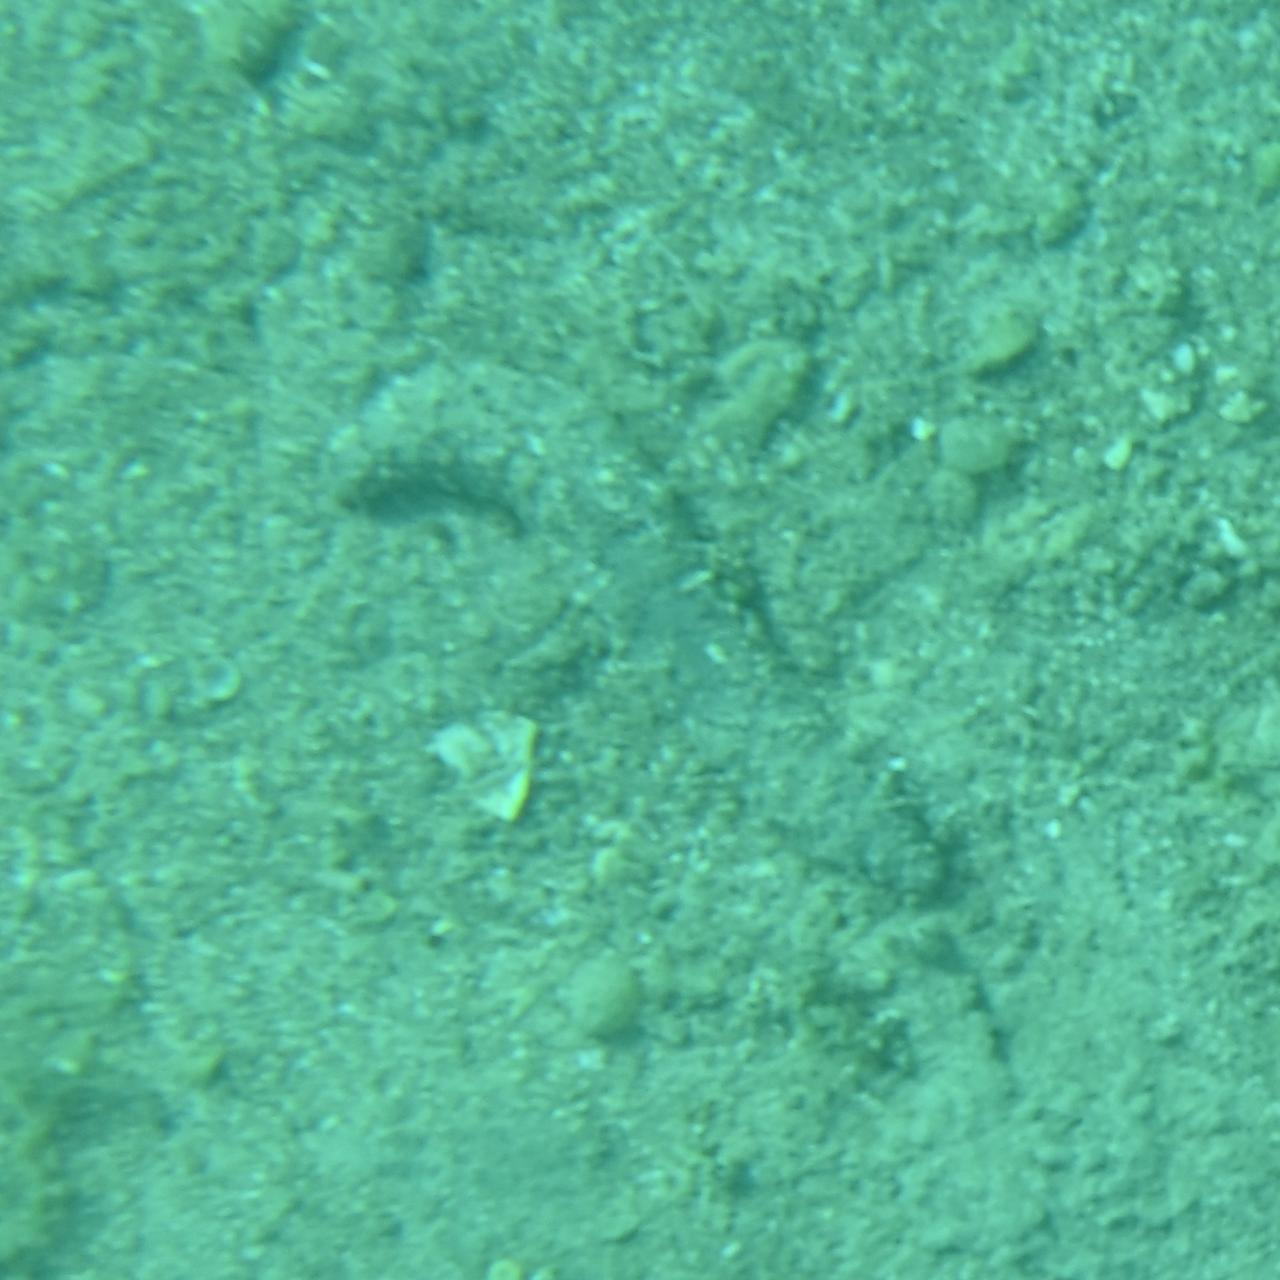Holothuria tubulosa: (307, 356, 973, 924)
